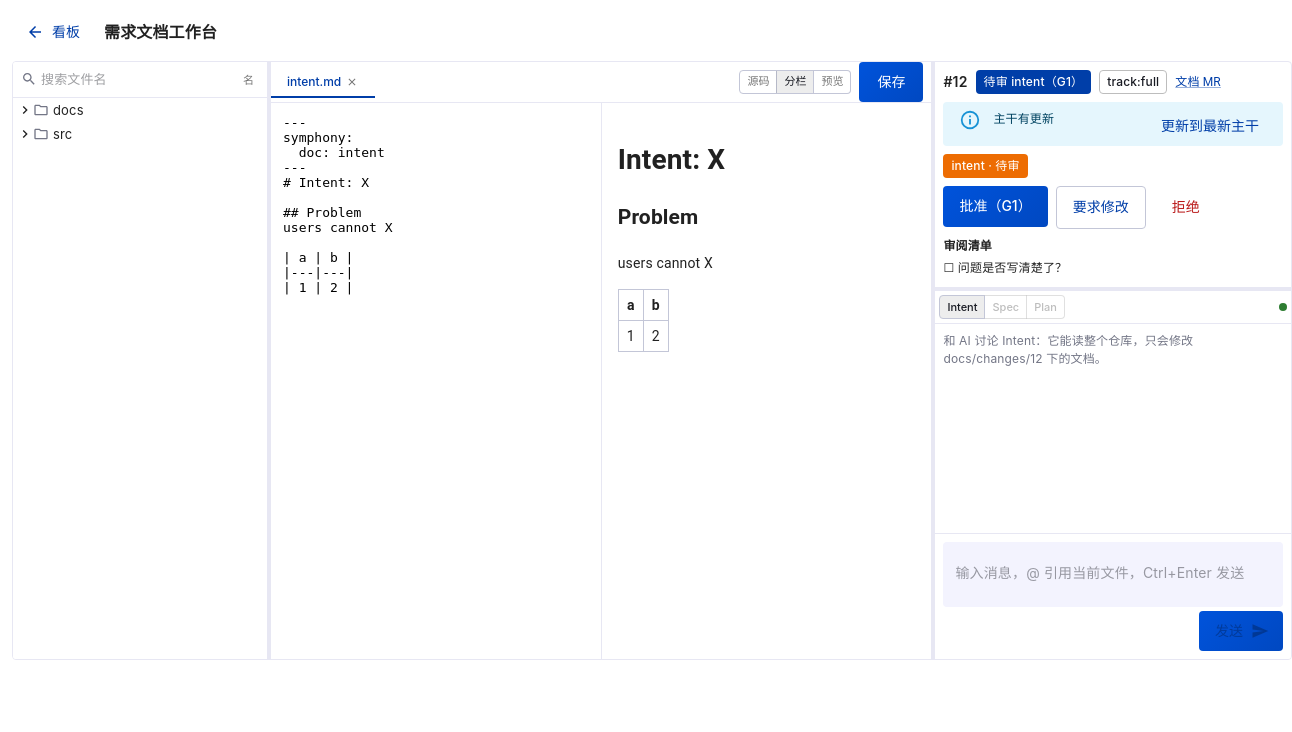
it: WorkbenchPage › 409 conflict shows the conflict bar; 保留我的 re-saves on the new version, 采用新的 takes disk content
In the text box named "编辑器": (436, 381) [271,103,601,659], type "mine"
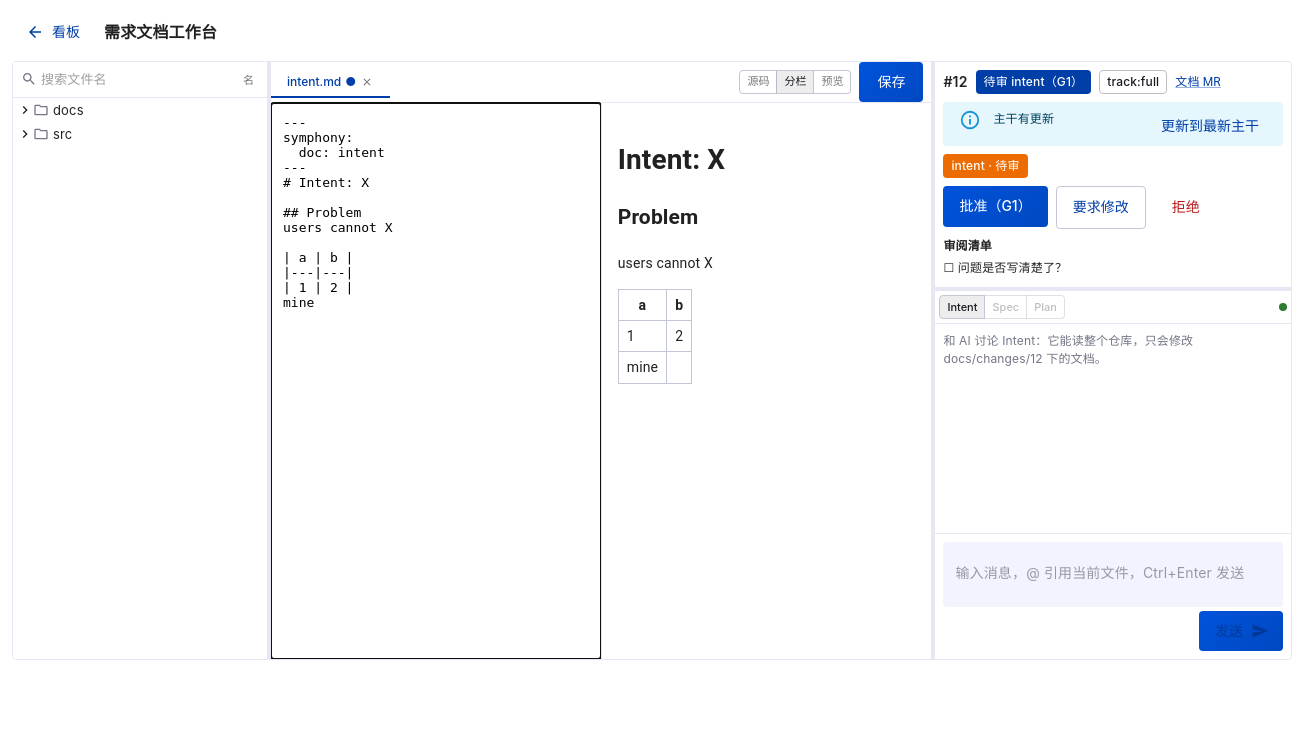
Click the button "保存": (891, 82) [859,62,923,102]
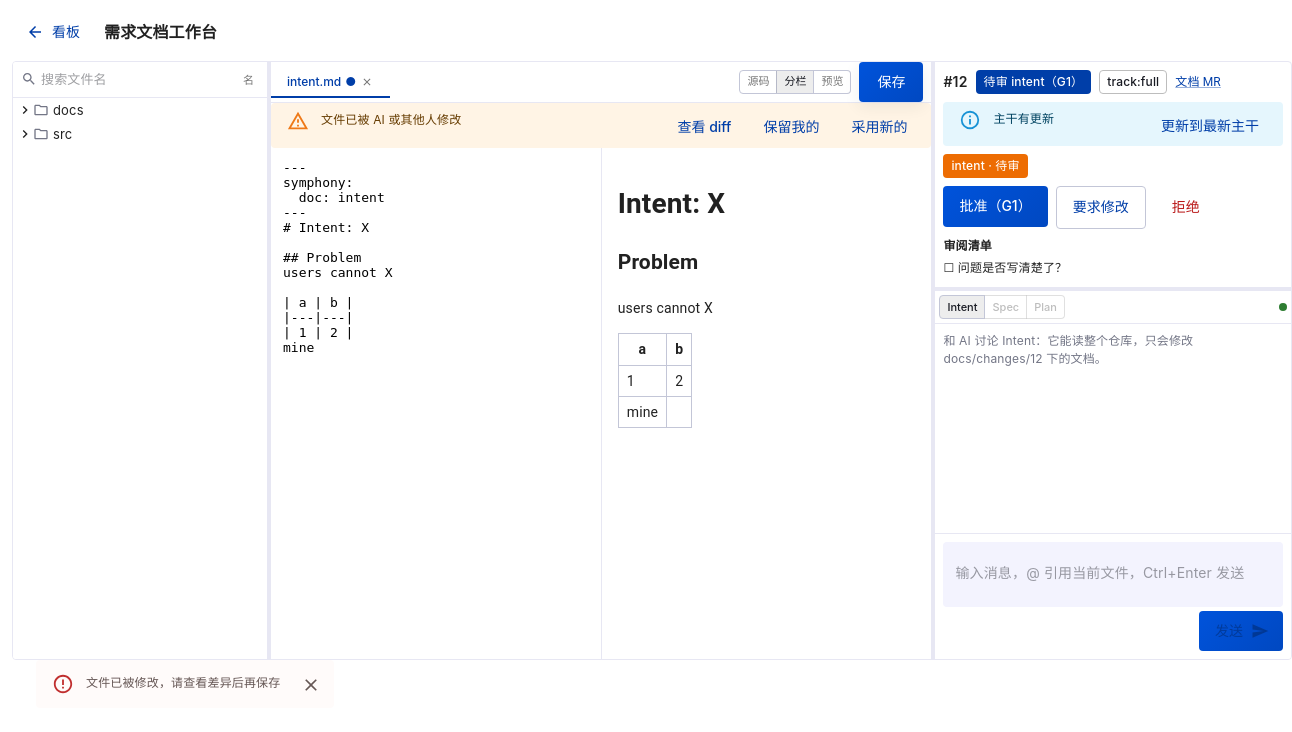
Check: the text "文件已被 AI 或其他人修改" is shown, box [321,112,461,127]
Check: the text "文件已被修改，请查看差异后再保存" is shown, box [86,675,280,690]
Click the button "保留我的": (791, 127) [747,107,835,148]
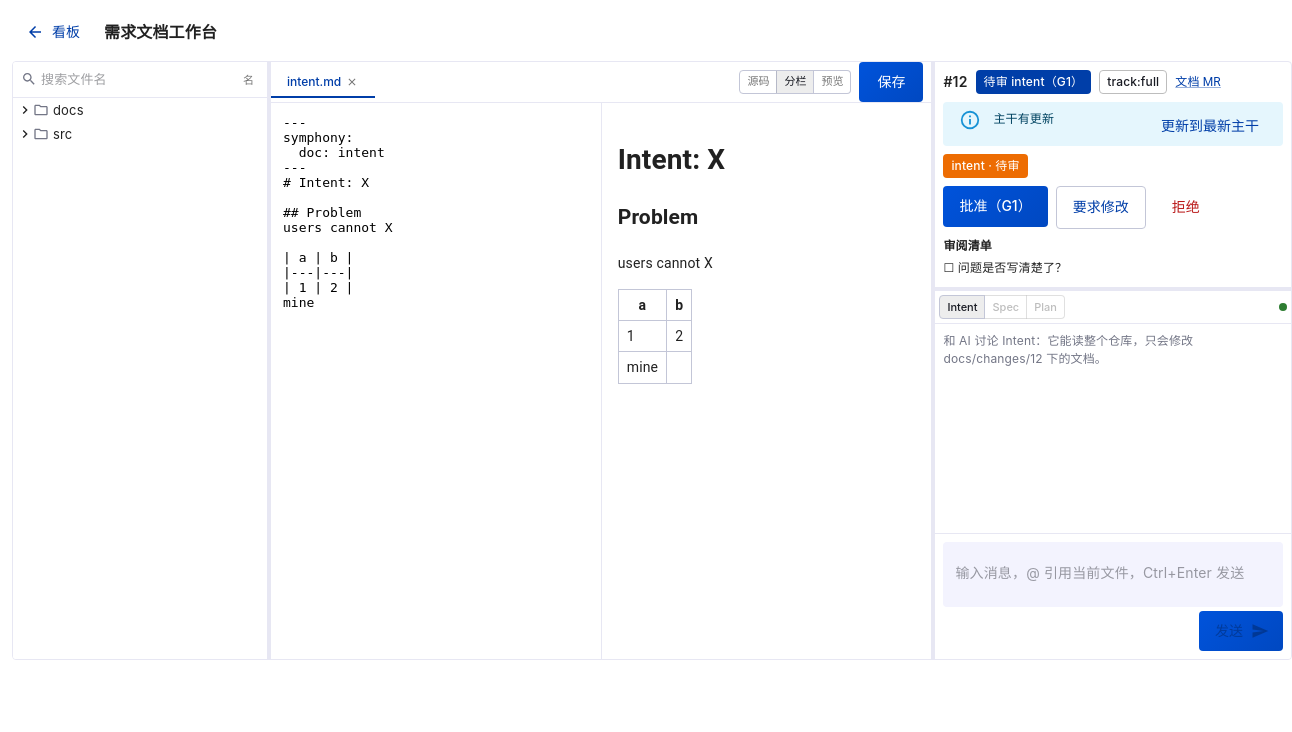
Check: the text "文件已被 AI 或其他人修改" is gone
In the text box named "编辑器": (436, 381) [271,103,601,659], type "!"
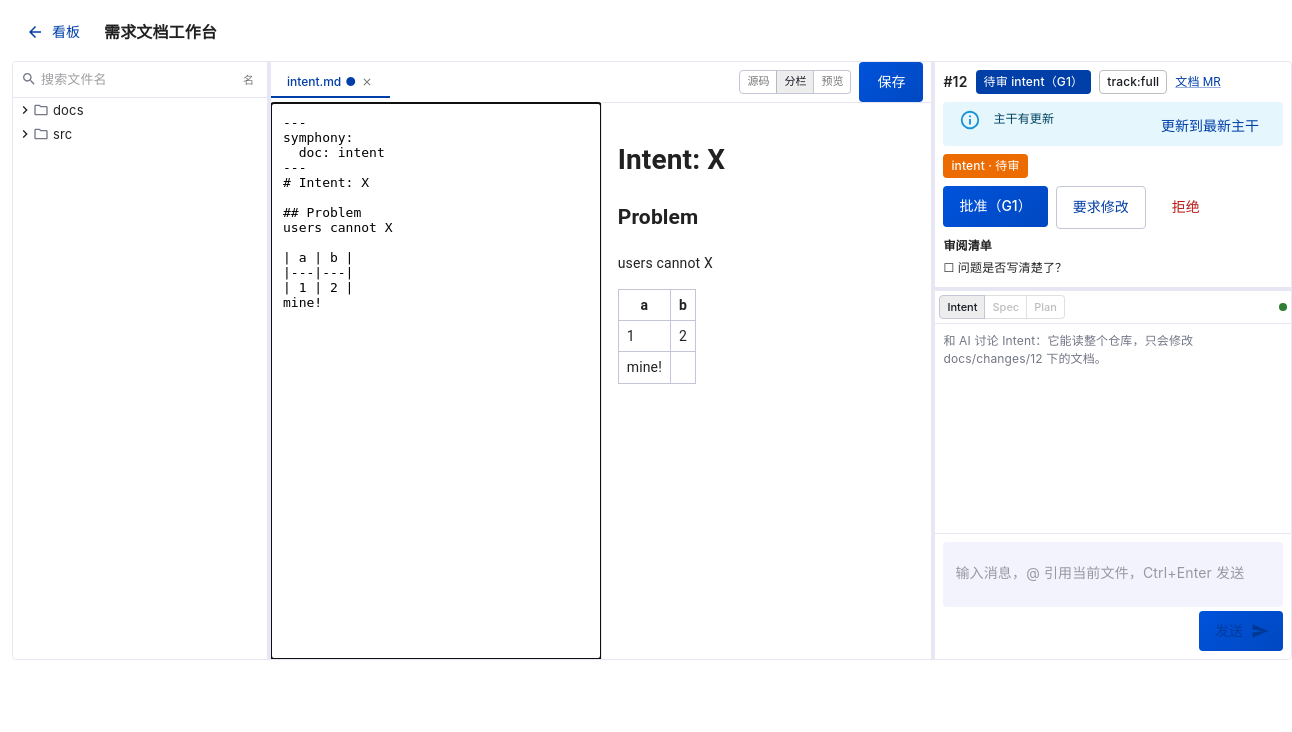
Click the button "保存": (891, 82) [859,62,923,102]
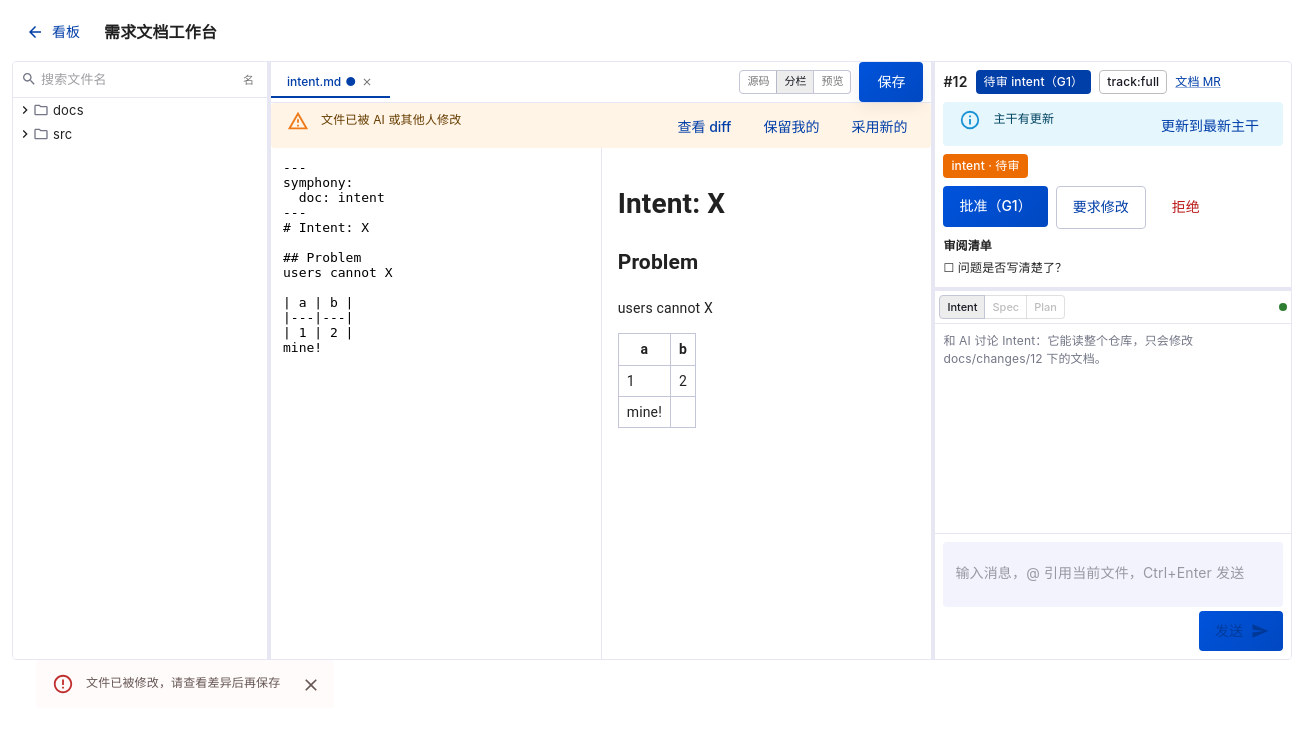
Check: the text "文件已被 AI 或其他人修改" is shown, box [321,112,461,127]
Click the button "采用新的": (879, 127) [835,107,923,148]
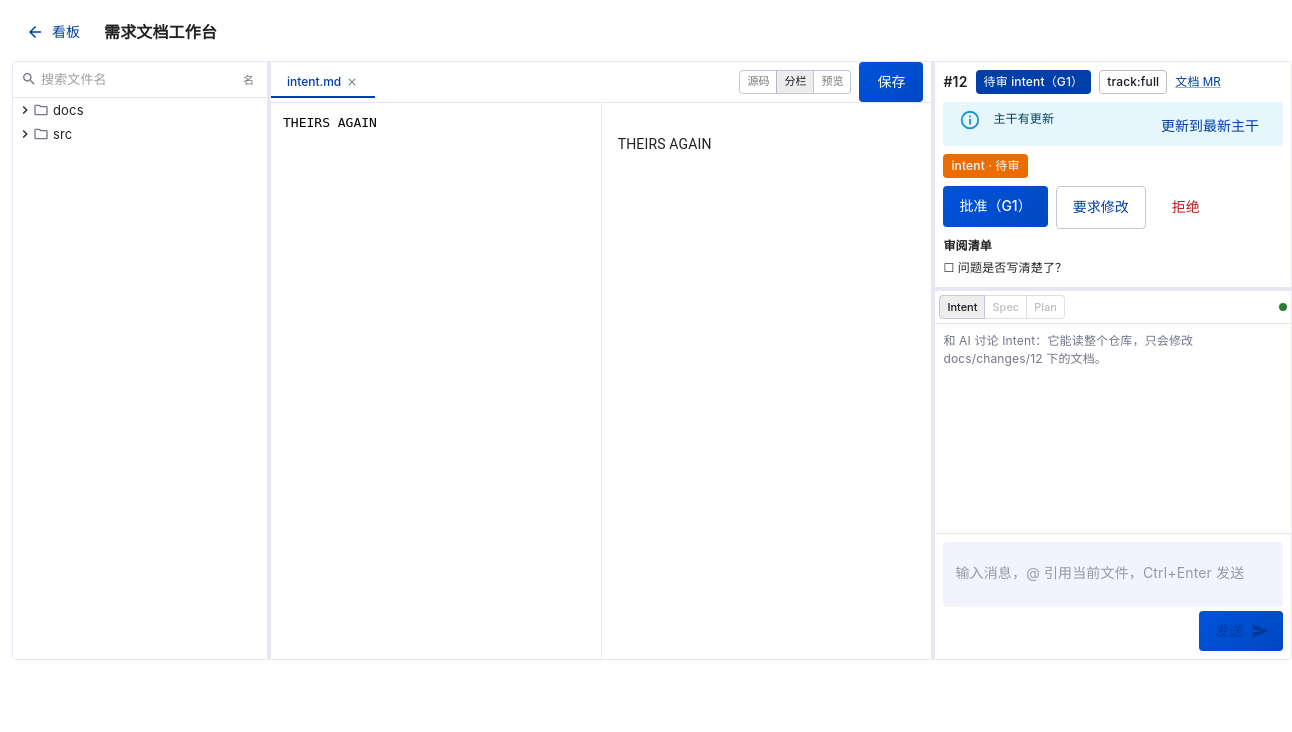
Check: the text "文件已被 AI 或其他人修改" is gone
Check: the text labelled "未保存" is gone
